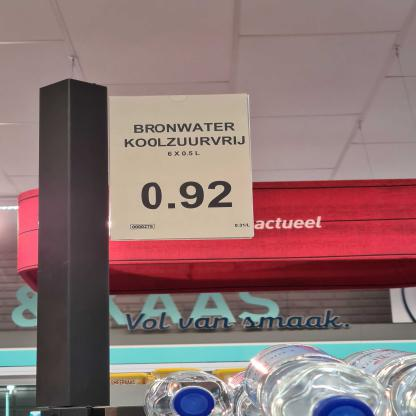prtg: (108, 94, 255, 241)
